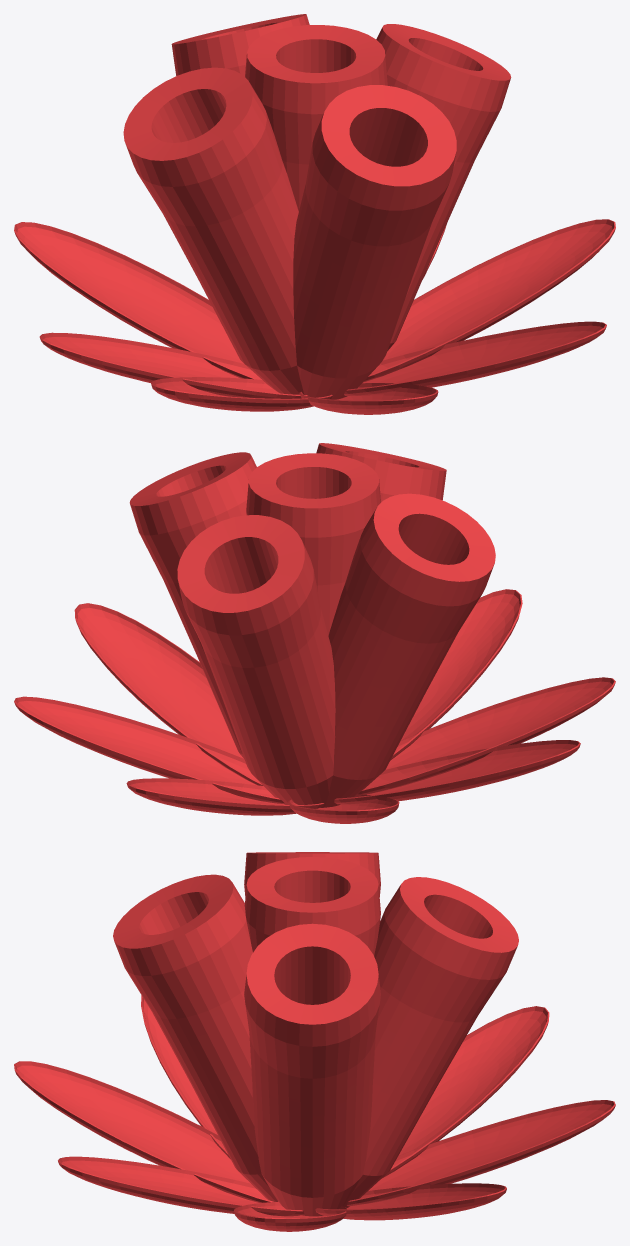
The picture shows the model from 3 angles, top to bottom: view 1: azimuth 30°, elevation 25°; view 2: azimuth 150°, elevation 25°; view 3: azimuth 270°, elevation 25°; orthographic projection. The views are drawn at different scales.
Visible parts, largest first — view 1: Sphere.007; view 2: Sphere.007; view 3: Sphere.007.
Boxes of the visible parts, left/top/right/bottom form: Sphere.007: left=14, top=14, right=615, bottom=414; Sphere.007: left=14, top=443, right=615, bottom=823; Sphere.007: left=14, top=852, right=615, bottom=1231.
Size of the model in its own units: 1.18 by 0.6941 by 1.17.
